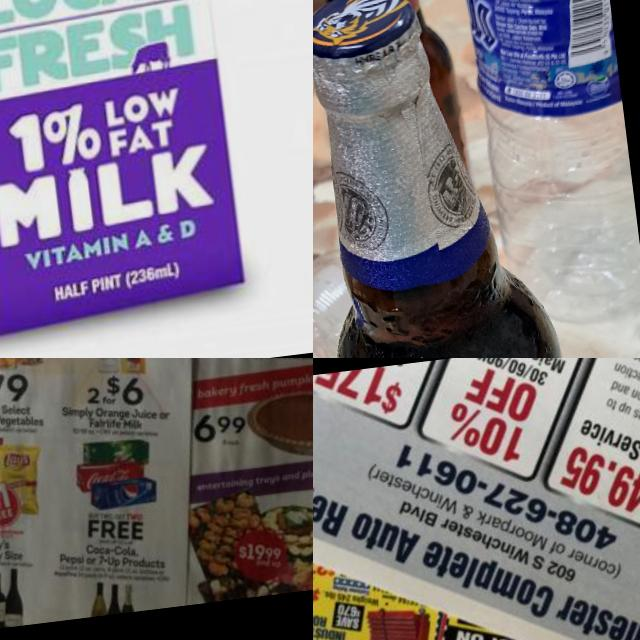caixinha: (0, 0, 252, 347)
garrafa de vidro: (313, 0, 597, 358)
garrafa plástica: (464, 0, 640, 335)
papel: (313, 358, 640, 640), (0, 358, 313, 640)
